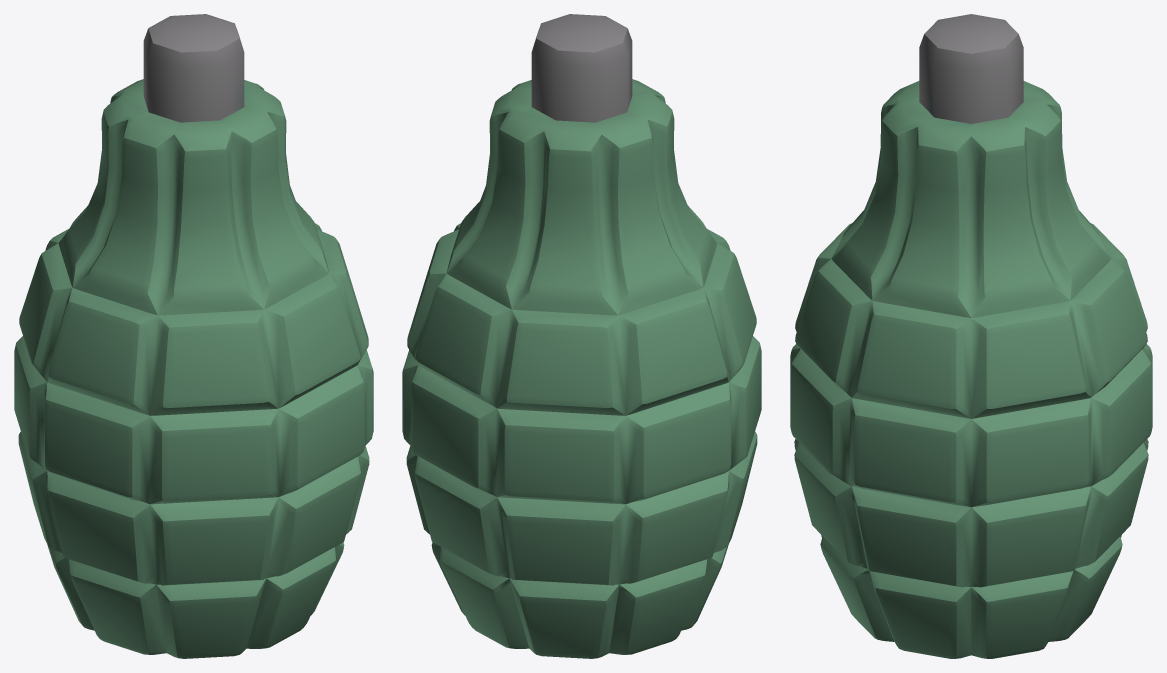
File: Granade_Unpinned.fbx
The picture shows the model from 3 angles, left to right: view 1: azimuth 30°, elevation 25°; view 2: azimuth 150°, elevation 25°; view 3: azimuth 270°, elevation 25°; orthographic projection.
Visible parts, largest first — view 1: SM_GrenadeProjectile_LOD0.mo; view 2: SM_GrenadeProjectile_LOD0.mo; view 3: SM_GrenadeProjectile_LOD0.mo.
Boxes of the visible parts, x1,y1,x2,y2 form: SM_GrenadeProjectile_LOD0.mo: (14, 14, 373, 658); SM_GrenadeProjectile_LOD0.mo: (402, 14, 761, 658); SM_GrenadeProjectile_LOD0.mo: (790, 14, 1152, 658).
Bounding box in the file's own units: 14.84 × 26.38 × 14.84.
1 material, 1 textured.
